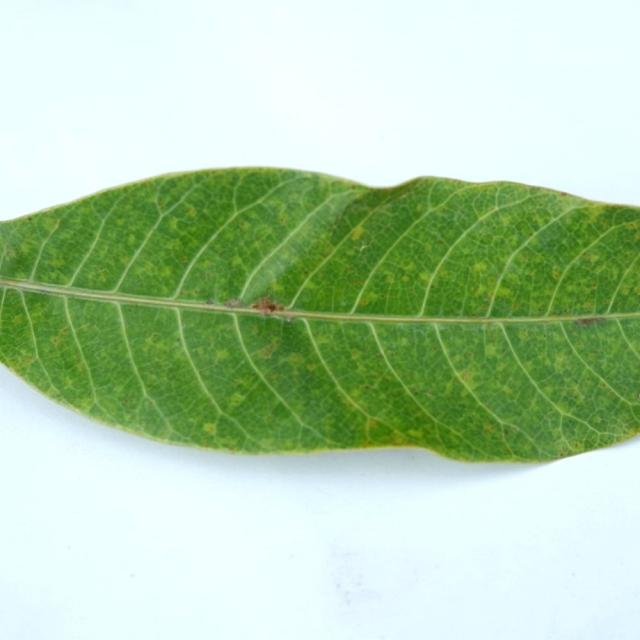Mango: (0, 168, 639, 461)
Powdery_Mildew: (213, 413, 250, 444), (469, 251, 492, 273), (256, 341, 280, 359), (50, 326, 71, 346), (227, 391, 247, 407), (3, 240, 19, 260), (14, 352, 35, 367), (268, 280, 286, 296), (287, 353, 307, 366), (363, 417, 380, 432), (484, 344, 500, 359), (350, 225, 366, 240), (215, 348, 232, 362), (459, 369, 476, 383), (167, 219, 182, 233), (554, 355, 568, 370), (141, 263, 158, 275), (229, 256, 244, 269), (358, 295, 374, 307), (558, 442, 572, 455), (406, 428, 424, 438), (94, 270, 109, 282), (495, 286, 511, 297), (184, 205, 197, 218), (474, 284, 488, 296), (50, 258, 66, 268), (419, 271, 433, 282), (202, 423, 216, 434), (483, 423, 497, 434), (20, 243, 32, 255), (143, 396, 156, 407), (12, 314, 26, 324), (126, 234, 137, 246), (518, 330, 530, 341), (149, 333, 161, 344), (322, 248, 333, 259), (239, 220, 251, 230), (201, 259, 213, 269), (316, 336, 328, 346), (586, 255, 599, 264), (626, 221, 639, 230), (214, 248, 227, 257), (551, 270, 562, 280), (350, 350, 362, 359), (306, 363, 318, 372), (50, 336, 62, 345), (385, 274, 395, 284), (76, 363, 86, 373), (572, 388, 582, 398), (51, 219, 61, 228), (123, 397, 133, 405), (424, 391, 435, 398), (401, 274, 410, 282), (60, 327, 69, 335), (468, 311, 479, 317), (589, 282, 597, 289), (437, 238, 445, 245), (411, 386, 419, 393), (432, 345, 439, 352), (363, 384, 371, 390), (375, 352, 382, 358), (575, 442, 582, 448), (636, 287, 640, 296), (193, 288, 199, 294), (177, 339, 182, 346), (304, 270, 309, 275)
